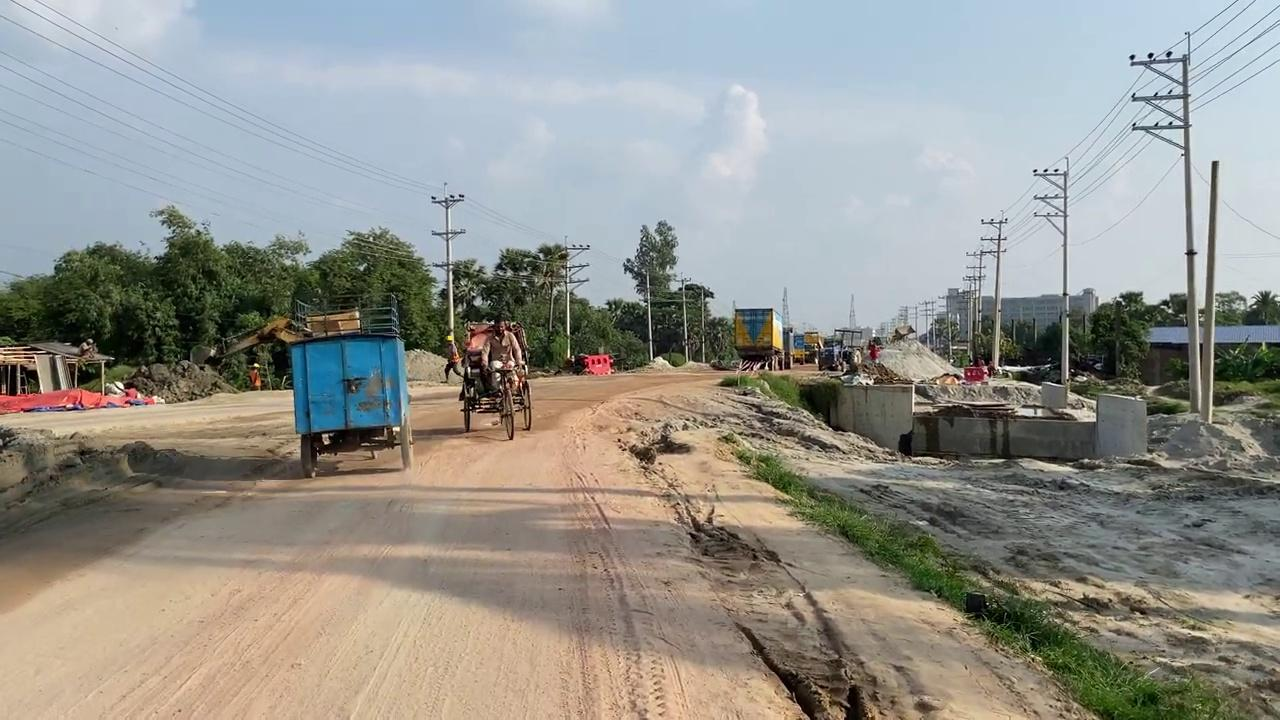Muddy road: (0, 369, 1095, 720)
Pole: (1202, 159, 1220, 422)
Railroad-crossing: (449, 305, 549, 458)
Traffic-sign: (622, 218, 679, 361)
Tree: (287, 292, 414, 478), (816, 326, 863, 371), (792, 330, 824, 365), (890, 324, 915, 343)
